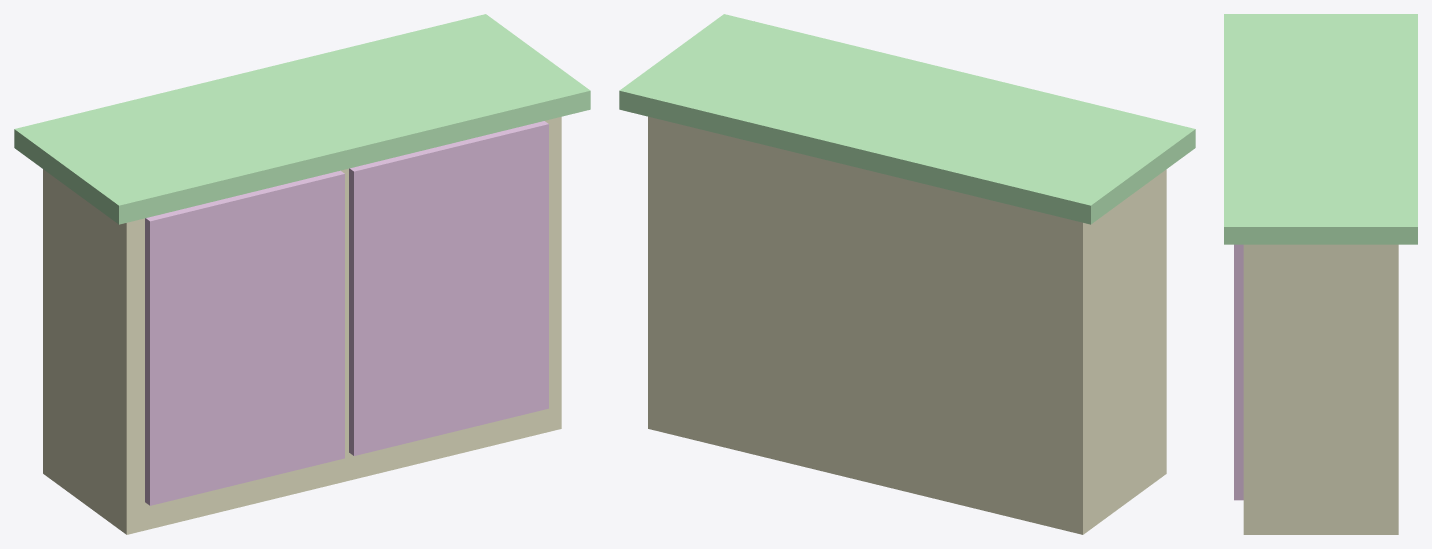
The model's file is Sideboard.glb.
The picture shows the model from 3 angles, left to right: view 1: azimuth 30°, elevation 25°; view 2: azimuth 150°, elevation 25°; view 3: azimuth 270°, elevation 25°; orthographic projection. The views are drawn at different scales.
Visible parts, largest first — view 1: Sideboard; view 2: Sideboard; view 3: Sideboard.
Boxes of the visible parts, x1,y1,x2,y2 form: Sideboard: [14, 14, 590, 534]; Sideboard: [619, 14, 1195, 534]; Sideboard: [1224, 14, 1417, 534].
Bounding box in the file's own units: 1.3 × 0.9 × 0.5004.
